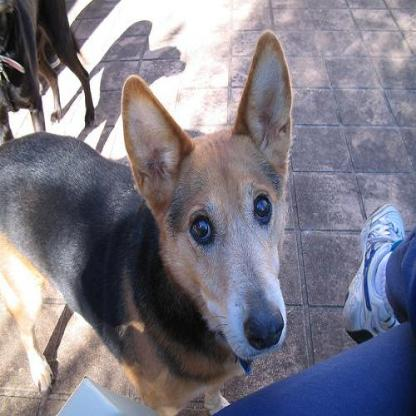kelpie: (0, 26, 292, 414)
